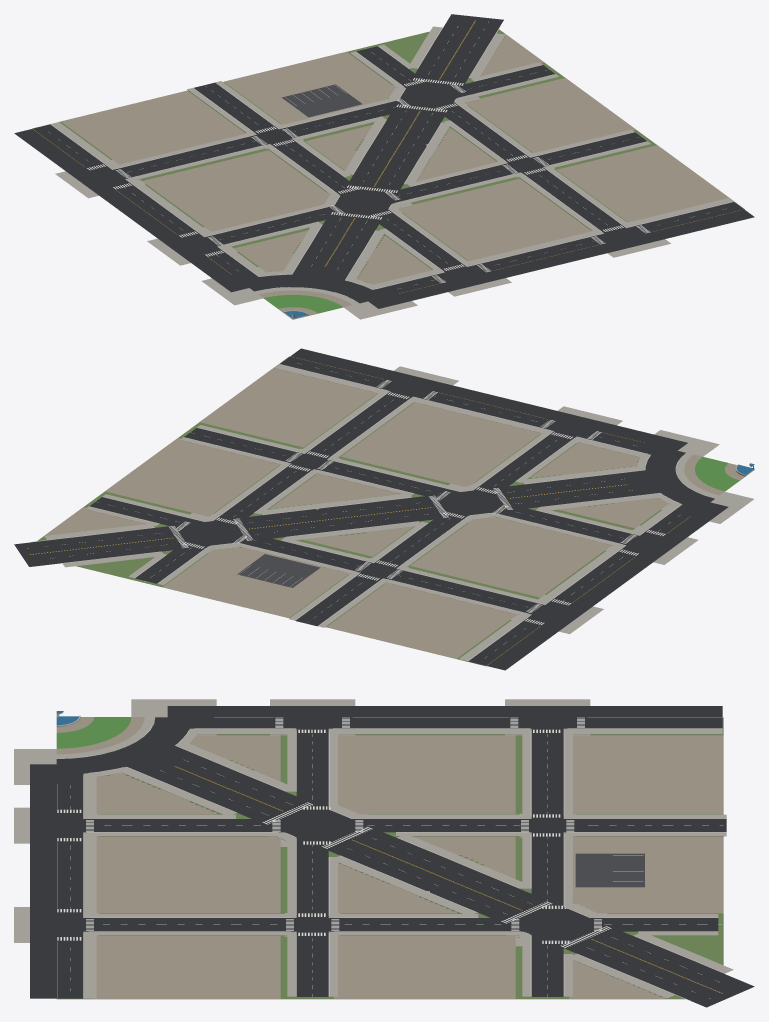
The model's file is Ground_4_4.fbx.
The picture shows the model from 3 angles, top to bottom: view 1: azimuth 30°, elevation 25°; view 2: azimuth 150°, elevation 25°; view 3: azimuth 270°, elevation 25°; orthographic projection. The views are drawn at different scales.
Visible parts, largest first — view 1: Ground_4_4; view 2: Ground_4_4; view 3: Ground_4_4.
Boxes of the visible parts, x1,y1,x2,y2 form: Ground_4_4: (14,14,754,319); Ground_4_4: (14,348,754,670); Ground_4_4: (14,699,754,1007).
Size of the model in its own units: 273 by 2.75 by 278.
